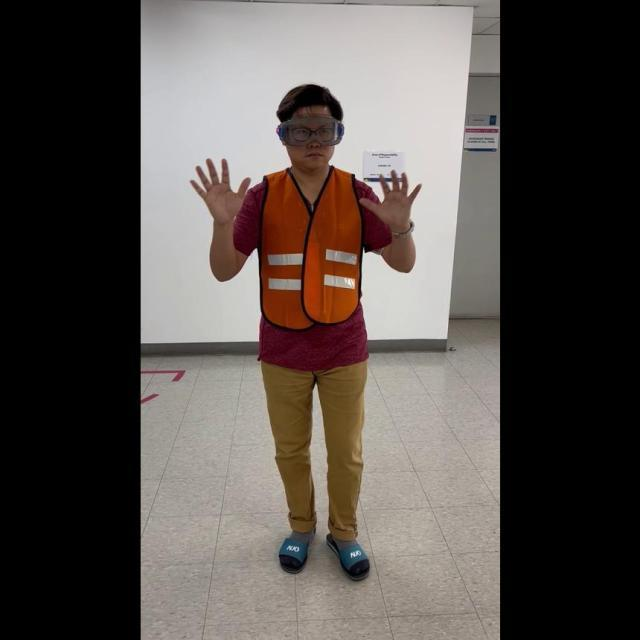bare_hand: (188, 150, 250, 223), (358, 164, 422, 234)
